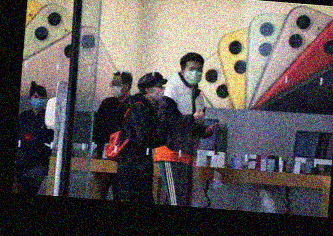with_mask: (184, 64, 203, 85), (109, 77, 125, 97), (150, 83, 166, 100), (30, 92, 45, 110)
